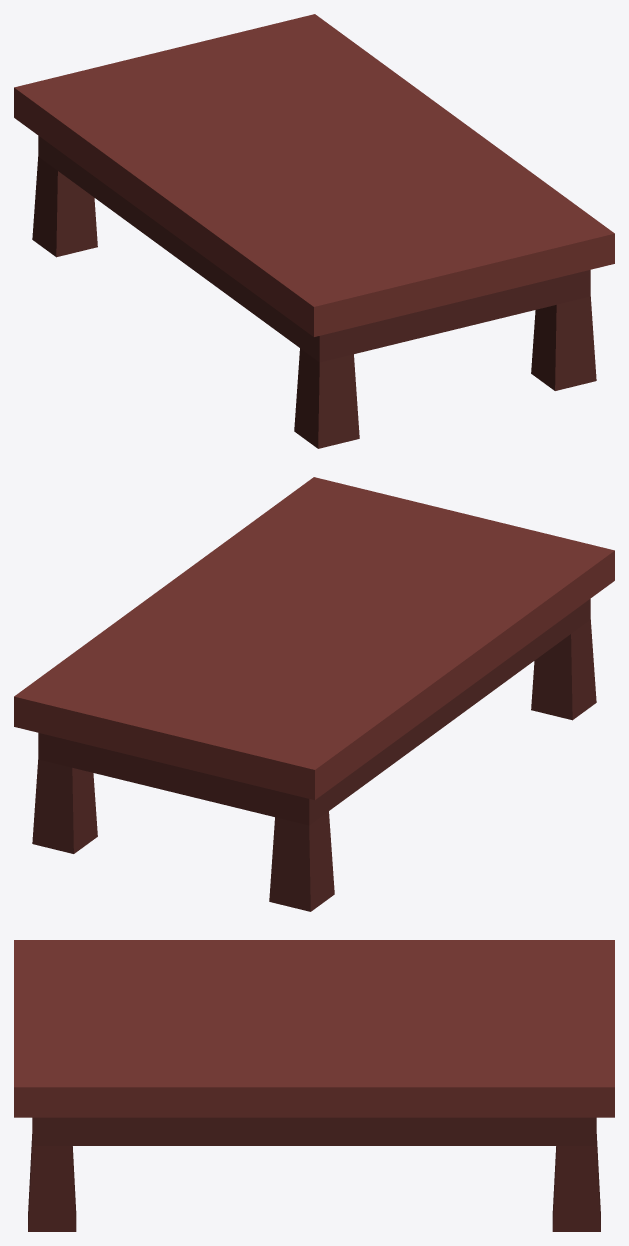
The model's file is quaternius-furniture-coffeetable.glb.
3 renders of one model, top to bottom at view 1: azimuth 30°, elevation 25°; view 2: azimuth 150°, elevation 25°; view 3: azimuth 270°, elevation 25°, orthographic.
Visible parts, largest first — view 1: Coffee Table; view 2: Coffee Table; view 3: Coffee Table.
Boxes of the visible parts, left/top/right/bottom form: Coffee Table: left=14, top=14, right=614, bottom=448; Coffee Table: left=14, top=477, right=614, bottom=911; Coffee Table: left=14, top=940, right=614, bottom=1231.
Size of the model in its own units: 0.5888 by 0.2801 by 1.02.
